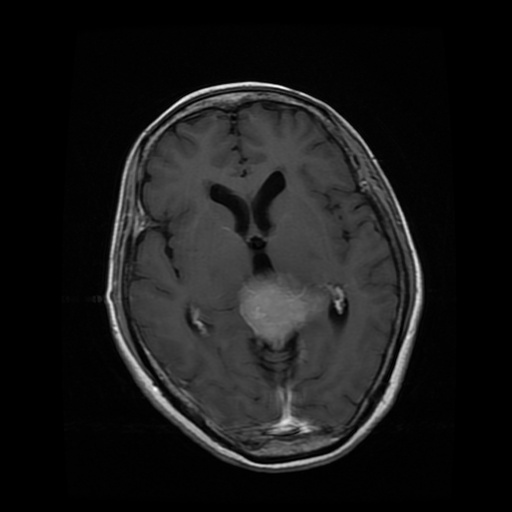meningioma: (238, 271, 328, 348)
